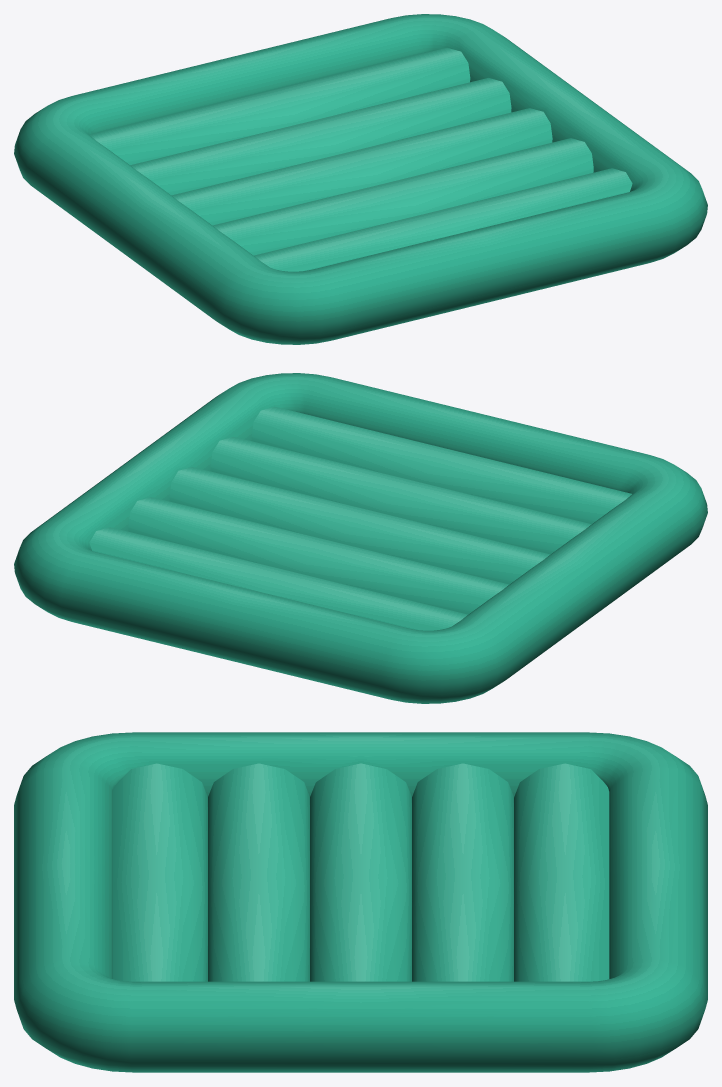
Rendered from tube_cube_green.fbx.
3 renders of one model, top to bottom at view 1: azimuth 30°, elevation 25°; view 2: azimuth 150°, elevation 25°; view 3: azimuth 270°, elevation 25°, orthographic. The views are drawn at different scales.
Parts seen in each view (by area): view 1: tube_cube_green; view 2: tube_cube_green; view 3: tube_cube_green.
Boxes of the visible parts, left/top/right/bottom form: tube_cube_green: left=14, top=14, right=707, bottom=344; tube_cube_green: left=14, top=373, right=707, bottom=703; tube_cube_green: left=14, top=732, right=707, bottom=1072.
Bounding box in the file's own units: 80 × 10.09 × 80.
